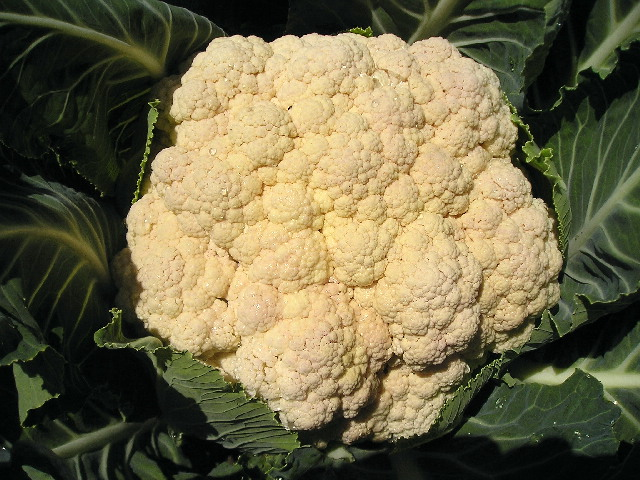cauliflower: (117, 33, 561, 445)
